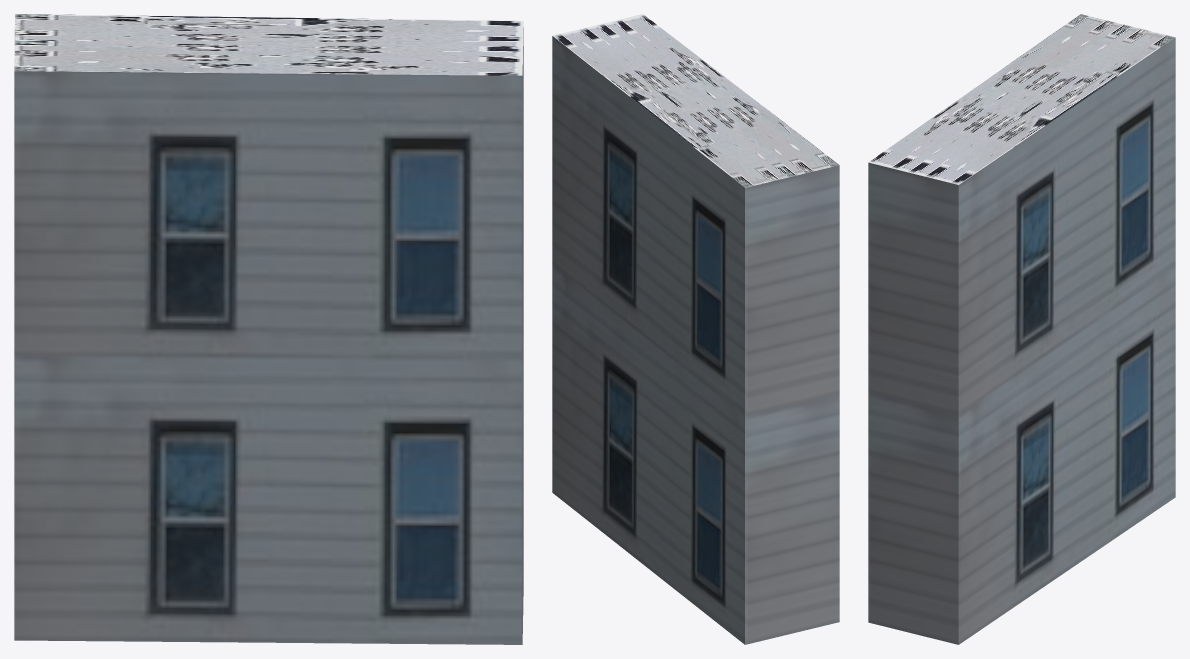
The model's file is ResTex__4872.fbx.
3 views of the same model, side by side, from view 1: azimuth 30°, elevation 25°; view 2: azimuth 150°, elevation 25°; view 3: azimuth 270°, elevation 25° (orthographic). The views are drawn at different scales.
Visible parts, largest first — view 1: CityEngineMaterial_18_m, CityEngineMaterial_2_m; view 2: CityEngineMaterial_18_m, CityEngineMaterial_2_m; view 3: CityEngineMaterial_18_m, CityEngineMaterial_2_m.
Part boxes in pixels (bbox=[...]): CityEngineMaterial_18_m: bbox=[14, 27, 523, 644]; CityEngineMaterial_2_m: bbox=[14, 14, 523, 75]; CityEngineMaterial_18_m: bbox=[552, 36, 839, 644]; CityEngineMaterial_2_m: bbox=[552, 14, 839, 187]; CityEngineMaterial_18_m: bbox=[868, 37, 1175, 644]; CityEngineMaterial_2_m: bbox=[868, 14, 1175, 184].
Bounding box in the file's own units: 4.78 × 6 × 3.64.
Materials: 2 (2 with a texture image).
